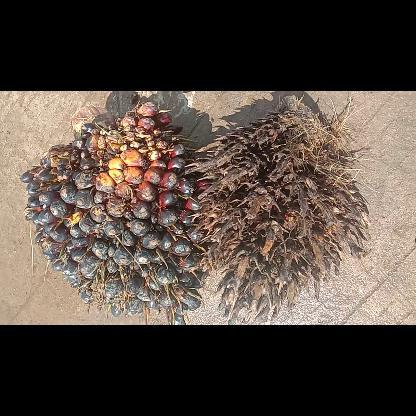Janjang kosong: (184, 96, 370, 324)
TBS mentah: (21, 101, 211, 324)
